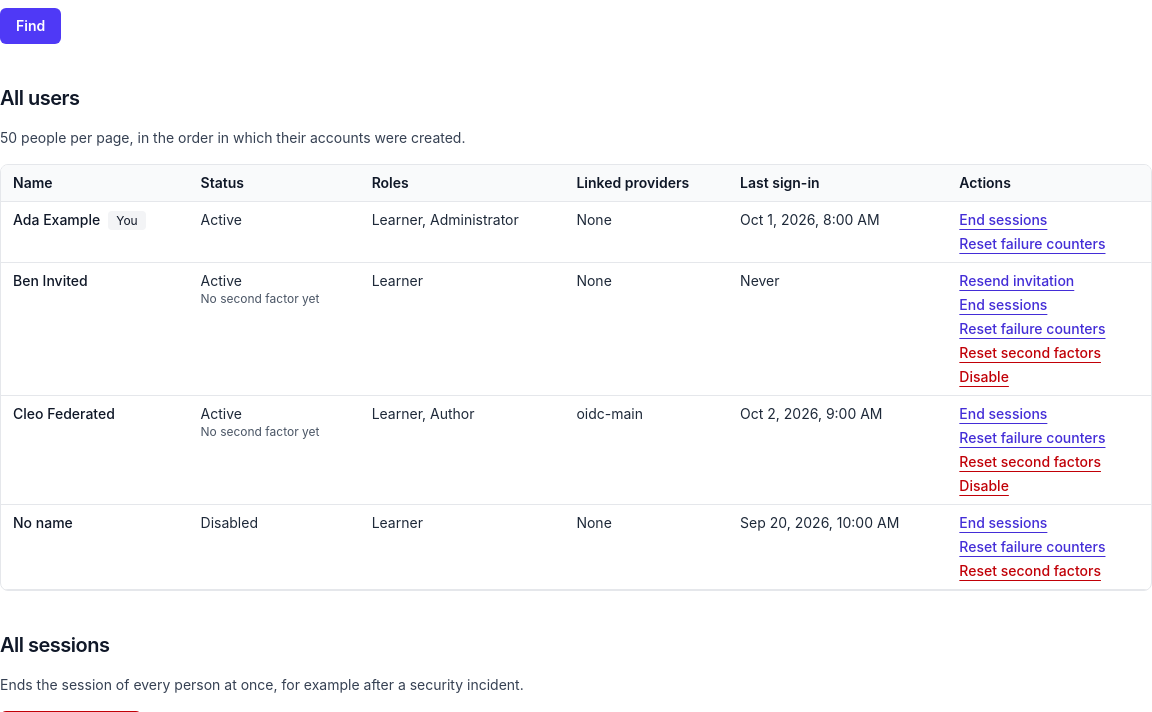
Test: the actions per user › 'Reset second factors' cannot confirm without the identity check and then sends identity_verified: true
(page scrolled)
Click the button "Reset second factors" below "Never": (1030, 353) [959,343,1101,363]
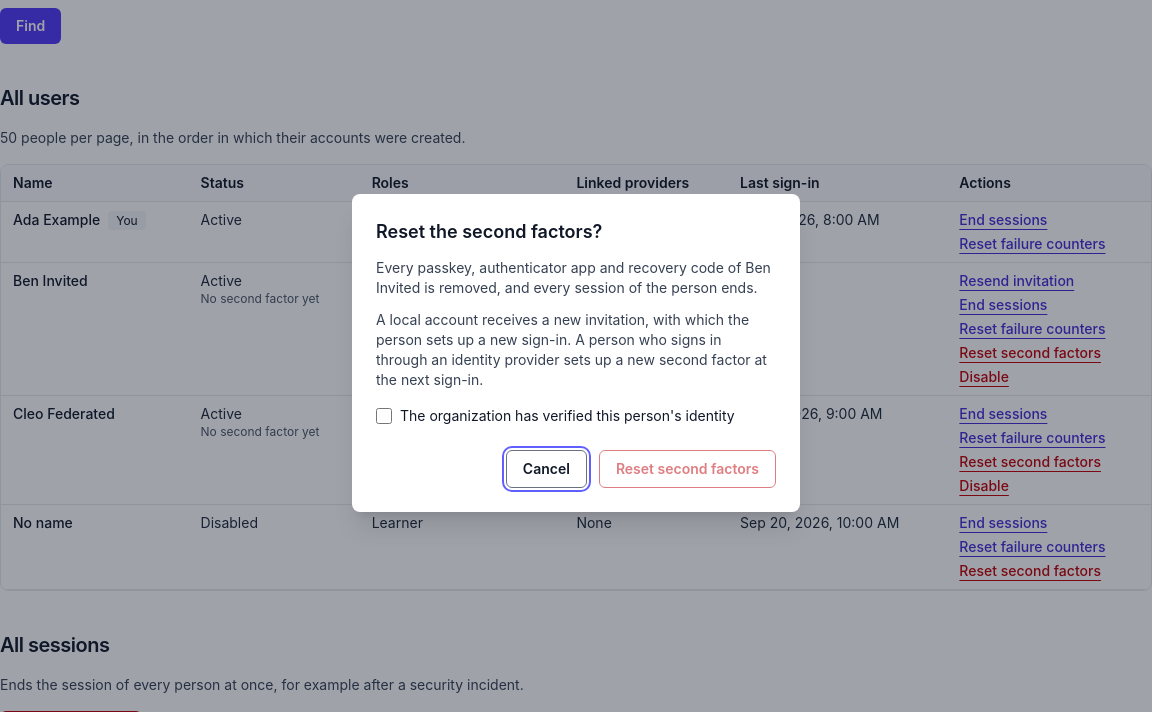
Expected: the checkbox labelled "The organization has verified this person's identity" is not checked, [376,408,392,424]
Expected: the button "Reset second factors" is disabled
Click the button "Reset second factors": (687, 469) [599,450,776,488]
(page scrolled)
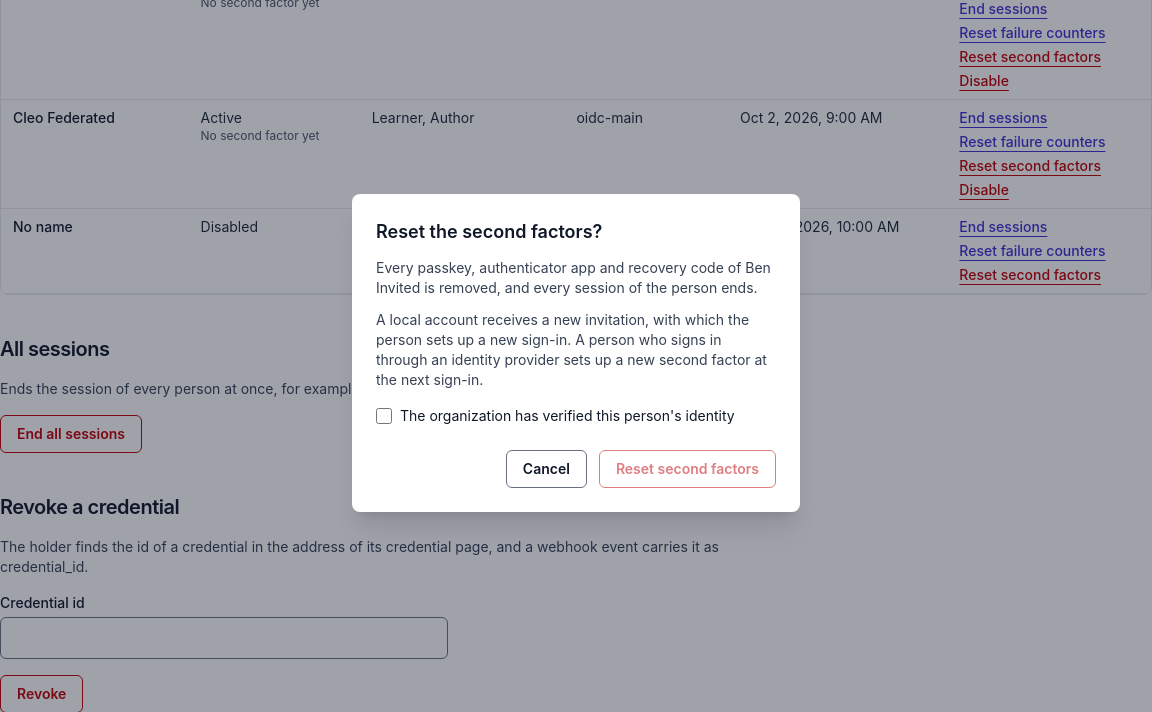
Click the checkbox labelled "The organization has verified this person's identity": (384, 416) [376,408,392,424]
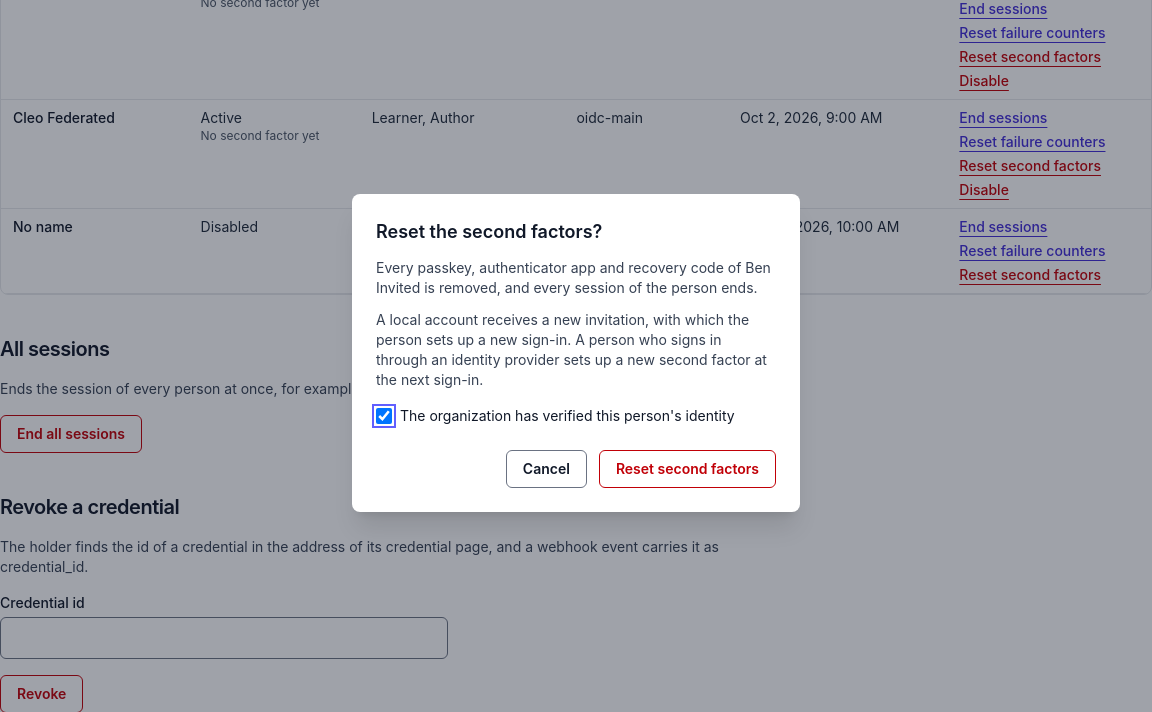
Expected: the button "Reset second factors" is enabled
Click the button "Reset second factors": (687, 469) [599,450,776,488]
(page scrolled)
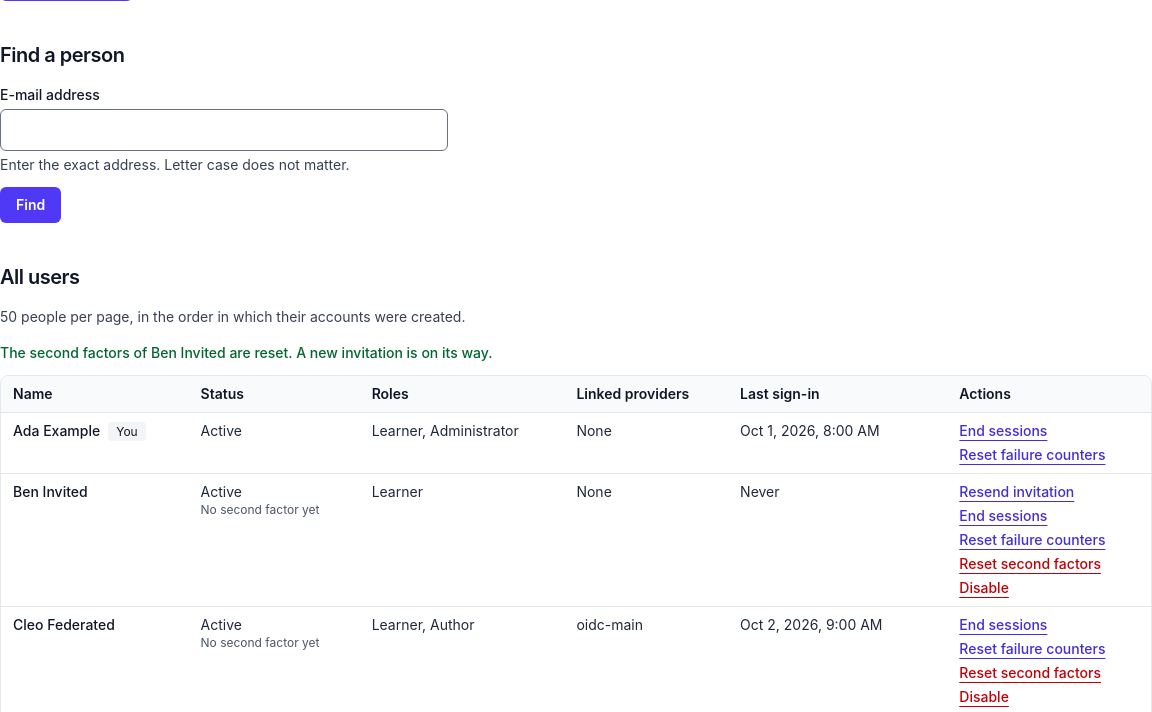
Expected: the heading "Reset the second factors?" is gone
